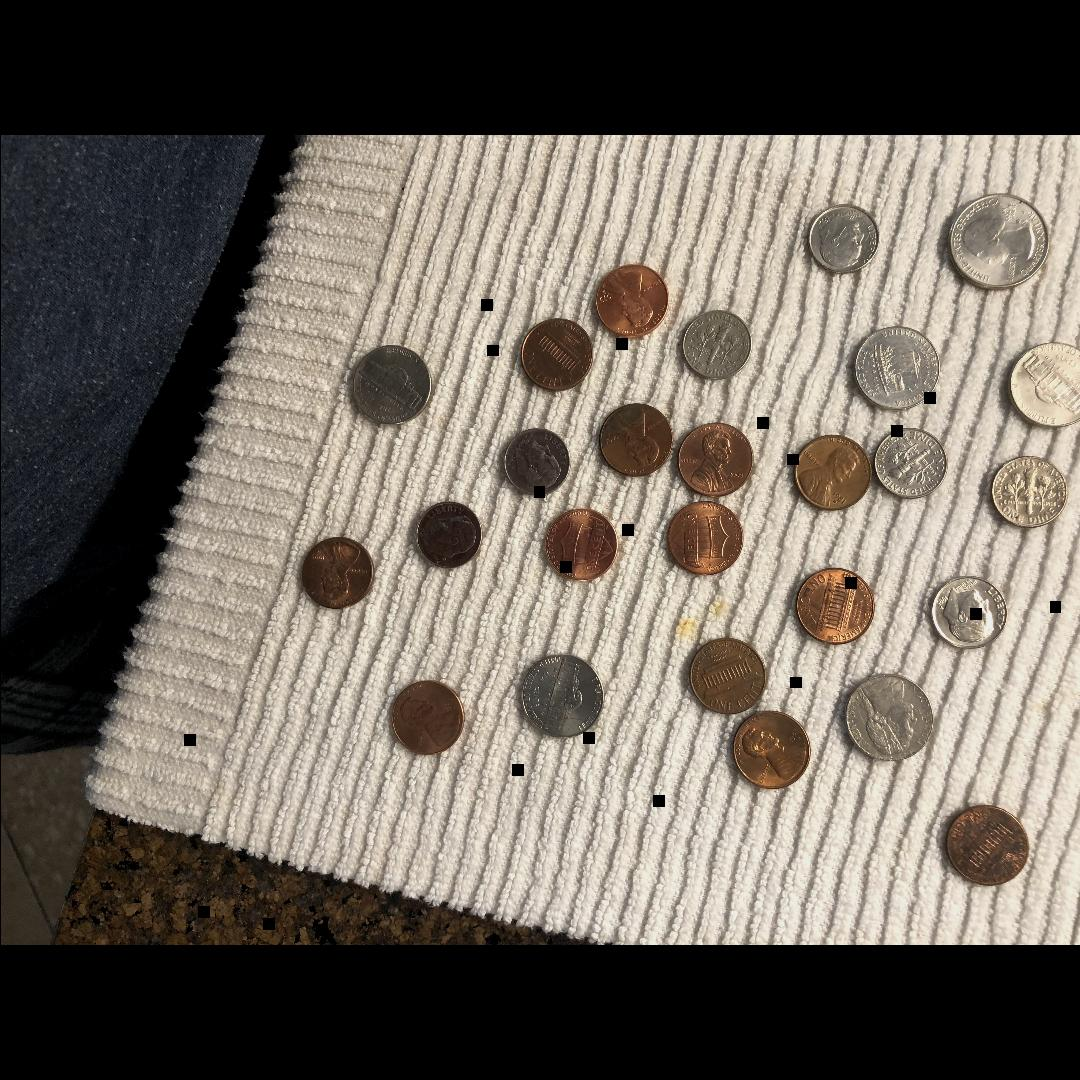Dime: (928, 577, 1008, 653), (986, 456, 1068, 530), (868, 426, 945, 500), (678, 310, 752, 382), (806, 205, 880, 275), (413, 499, 481, 570), (502, 430, 570, 496)
Nickel: (831, 673, 933, 763), (508, 653, 604, 745), (341, 343, 433, 433), (847, 326, 941, 412), (1006, 346, 1080, 430)
Penny: (941, 803, 1031, 887), (792, 563, 876, 647), (728, 710, 812, 793), (587, 262, 669, 344), (660, 500, 744, 580), (672, 418, 754, 498), (791, 434, 868, 518), (687, 637, 767, 715), (388, 678, 464, 756), (594, 402, 674, 476), (540, 509, 620, 582), (516, 316, 592, 392), (300, 536, 374, 612)
Quarter: (942, 190, 1048, 298)
